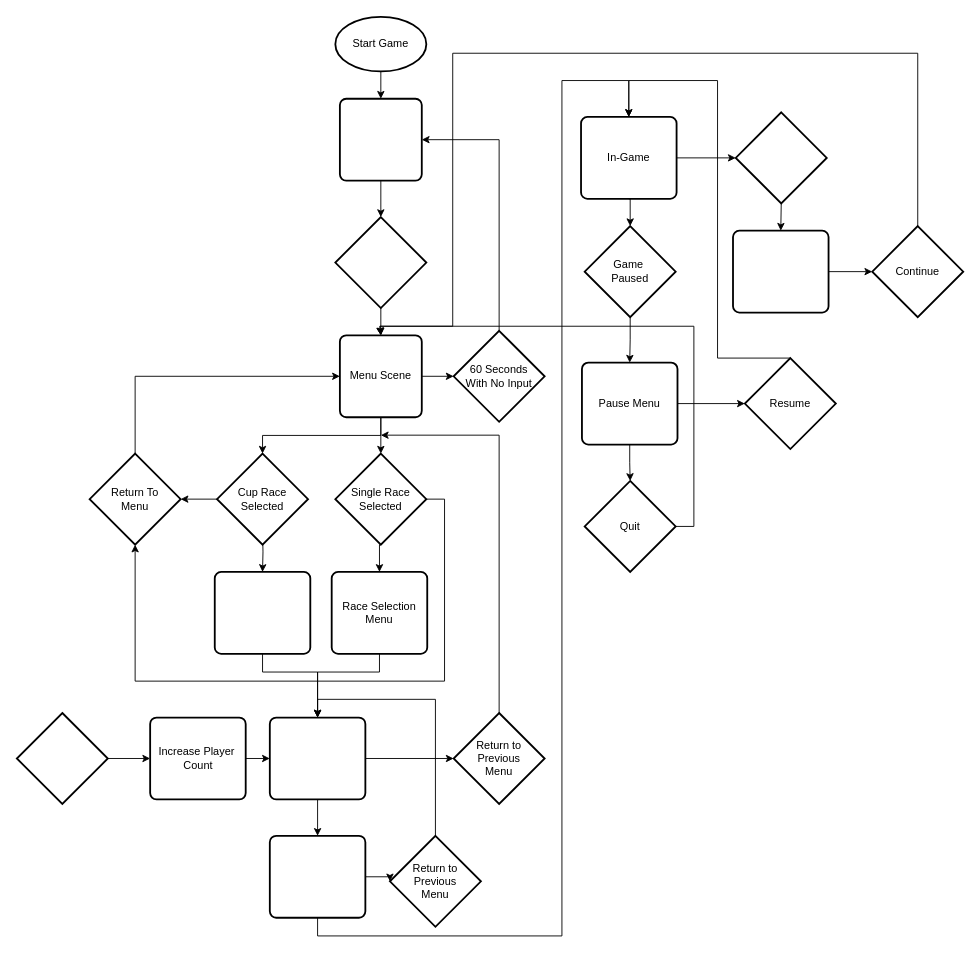
This 979x959 diagram has some shape labels left out. The box of each missing label's shape, as (x1, y1, x2, y2) in pixels:
A Pressed: (334, 216, 427, 308)
Attract State: (339, 97, 422, 181)
Character Selection: (268, 716, 366, 800)
Cup Selection Menu: (213, 571, 311, 654)
Kart Selection: (268, 834, 366, 918)
Player Joins: (15, 712, 108, 804)
Post-Game Screen: (732, 229, 829, 313)
Race Over: (734, 111, 827, 204)
